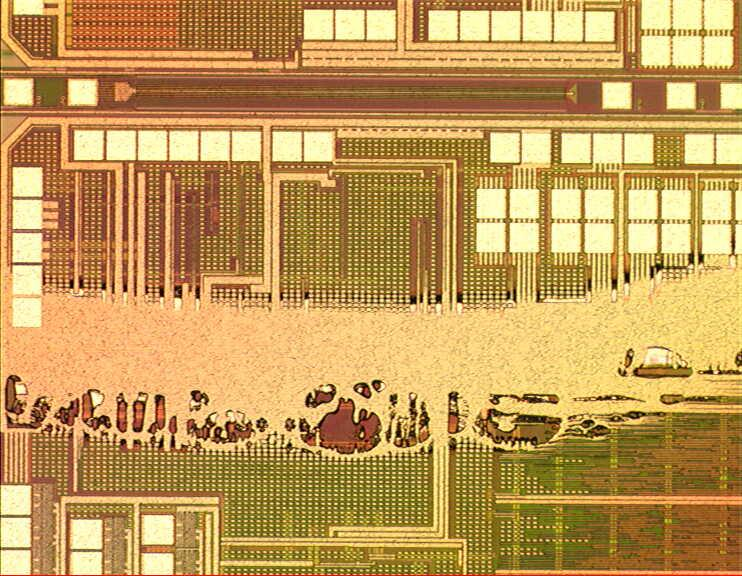COATING BAD: (3, 235, 742, 464)
